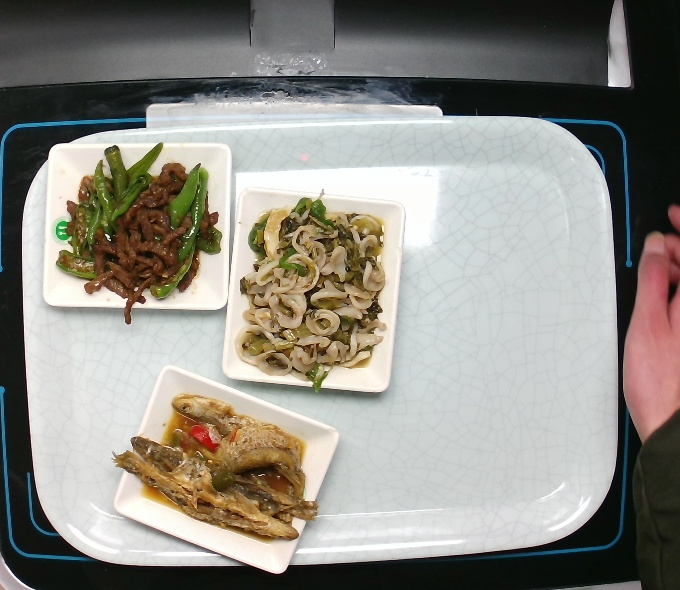wcq-QingJiaoNiuRou: (52, 139, 224, 329)
wcq-XiaoXiYu: (108, 389, 325, 548)
wcq-XueCaiYouYu: (234, 187, 394, 397)
